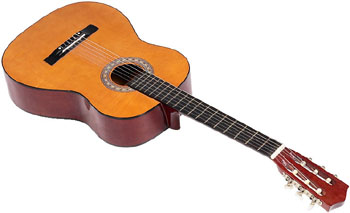guitar: (2, 2, 348, 213)
